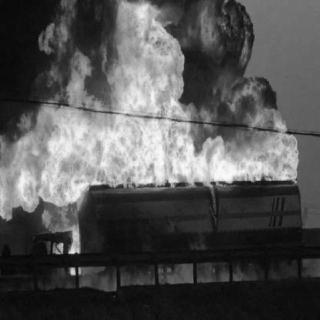Fire: (41, 187, 91, 279)
